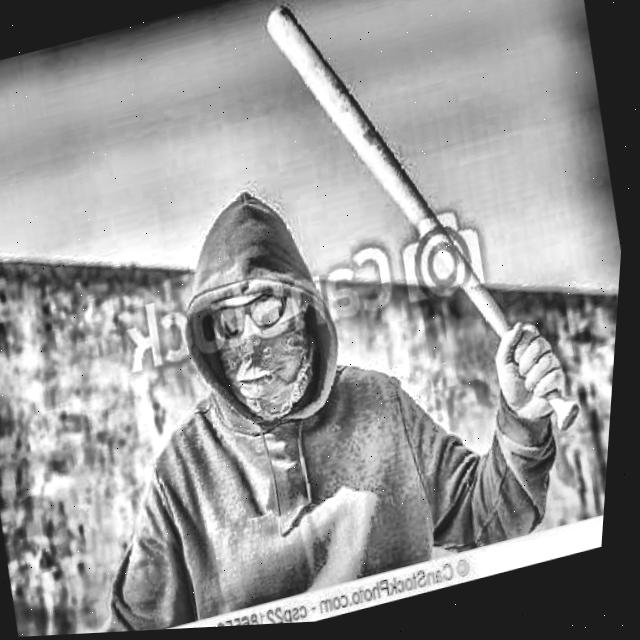robbery: (105, 0, 588, 632)
tongkat pemukul: (250, 0, 596, 441)
